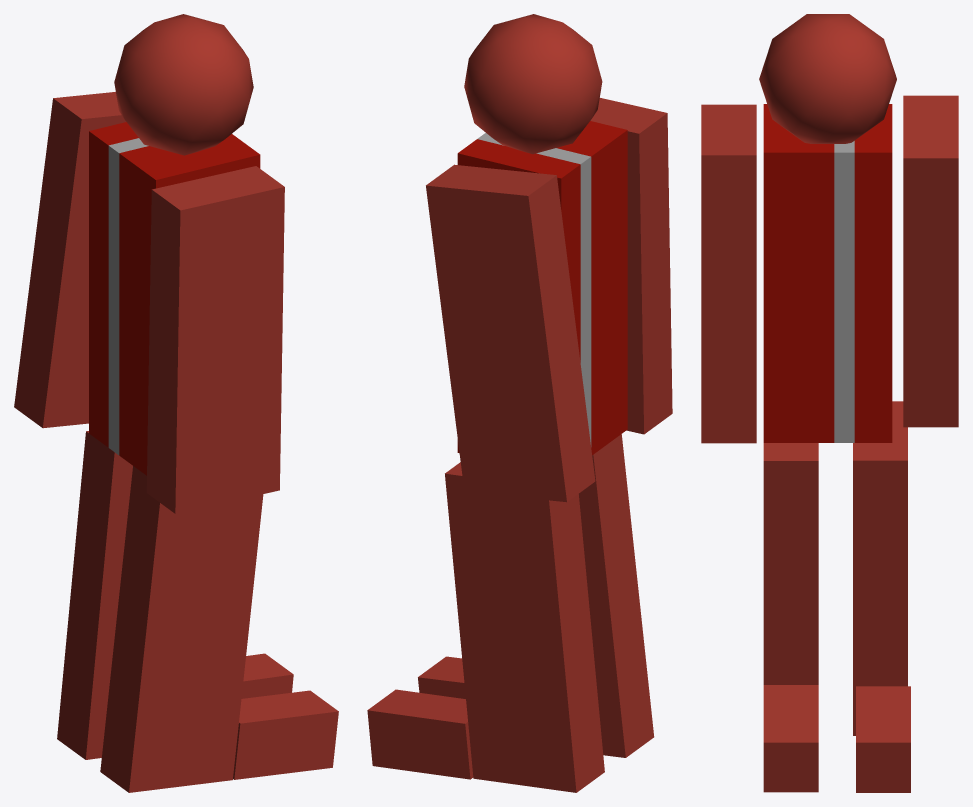
File: player_000077.obj
3 views of the same model, side by side, from view 1: azimuth 30°, elevation 25°; view 2: azimuth 150°, elevation 25°; view 3: azimuth 270°, elevation 25° (orthographic). The views are drawn at different scales.
Visible parts, largest first — view 1: Cube.013, Cube.010, Cube.007, Cube.012, Icosphere.001, Cube.008, Cube.011, Cube.009; view 2: Cube.012, Cube.008, Cube.007, Cube.010, Icosphere.001, Cube.013, Cube.009, Cube.011; view 3: Cube.007, Cube.013, Cube.012, Cube.008, Icosphere.001, Cube.010, Cube.011, Cube.009.
Part boxes in pixels (bbox=[...]): Cube.013: bbox=[146, 166, 284, 513]; Cube.010: bbox=[100, 466, 263, 792]; Cube.007: bbox=[89, 122, 260, 475]; Cube.012: bbox=[14, 92, 126, 428]; Icosphere.001: bbox=[114, 14, 253, 155]; Cube.008: bbox=[57, 431, 132, 759]; Cube.011: bbox=[233, 690, 338, 779]; Cube.009: bbox=[241, 653, 293, 698]; Cube.012: bbox=[426, 164, 595, 502]; Cube.008: bbox=[445, 462, 604, 792]; Cube.007: bbox=[457, 121, 627, 454]; Cube.010: bbox=[579, 434, 654, 757]; Icosphere.001: bbox=[464, 14, 602, 154]; Cube.013: bbox=[590, 98, 672, 434]; Cube.009: bbox=[367, 689, 473, 779]; Cube.011: bbox=[418, 656, 465, 698]; Cube.007: bbox=[763, 104, 892, 442]; Cube.013: bbox=[701, 104, 756, 443]; Cube.012: bbox=[903, 95, 958, 427]; Cube.008: bbox=[853, 401, 907, 735]; Icosphere.001: bbox=[759, 14, 896, 143]; Cube.010: bbox=[763, 443, 818, 684]; Cube.011: bbox=[763, 685, 818, 792]; Cube.009: bbox=[856, 686, 910, 792].
Bounding box in the file's own units: 0.8913 × 2.83 × 0.9137.
